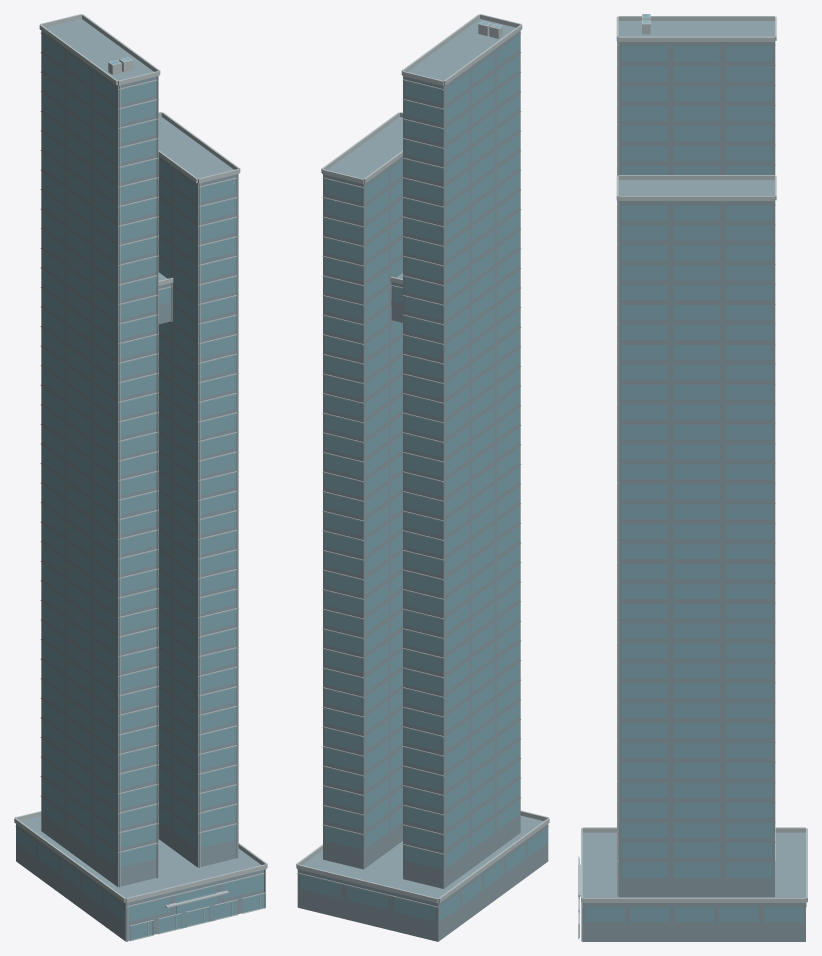
The model's file is commercial_3x4_tower_split.glb.
The picture shows the model from 3 angles, left to right: view 1: azimuth 30°, elevation 25°; view 2: azimuth 150°, elevation 25°; view 3: azimuth 270°, elevation 25°; orthographic projection.
Visible parts, largest first — view 1: commercial_3x4_tower_split_0; view 2: commercial_3x4_tower_split_0; view 3: commercial_3x4_tower_split_0.
Part boxes in pixels (x1=…): commercial_3x4_tower_split_0: x1=14, y1=14, x2=267, y2=941; commercial_3x4_tower_split_0: x1=296, y1=14, x2=549, y2=941; commercial_3x4_tower_split_0: x1=578, y1=14, x2=807, y2=941.
Size of the model in its own units: 23 by 130 by 31.4.
